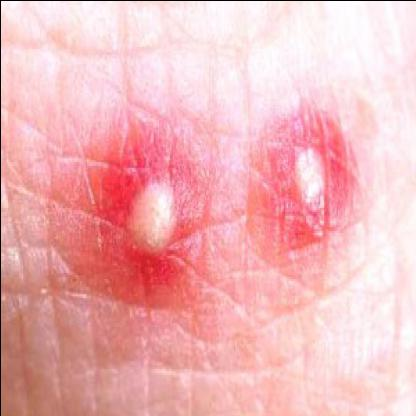Fire ant: (102, 163, 188, 274), (266, 124, 346, 218)
